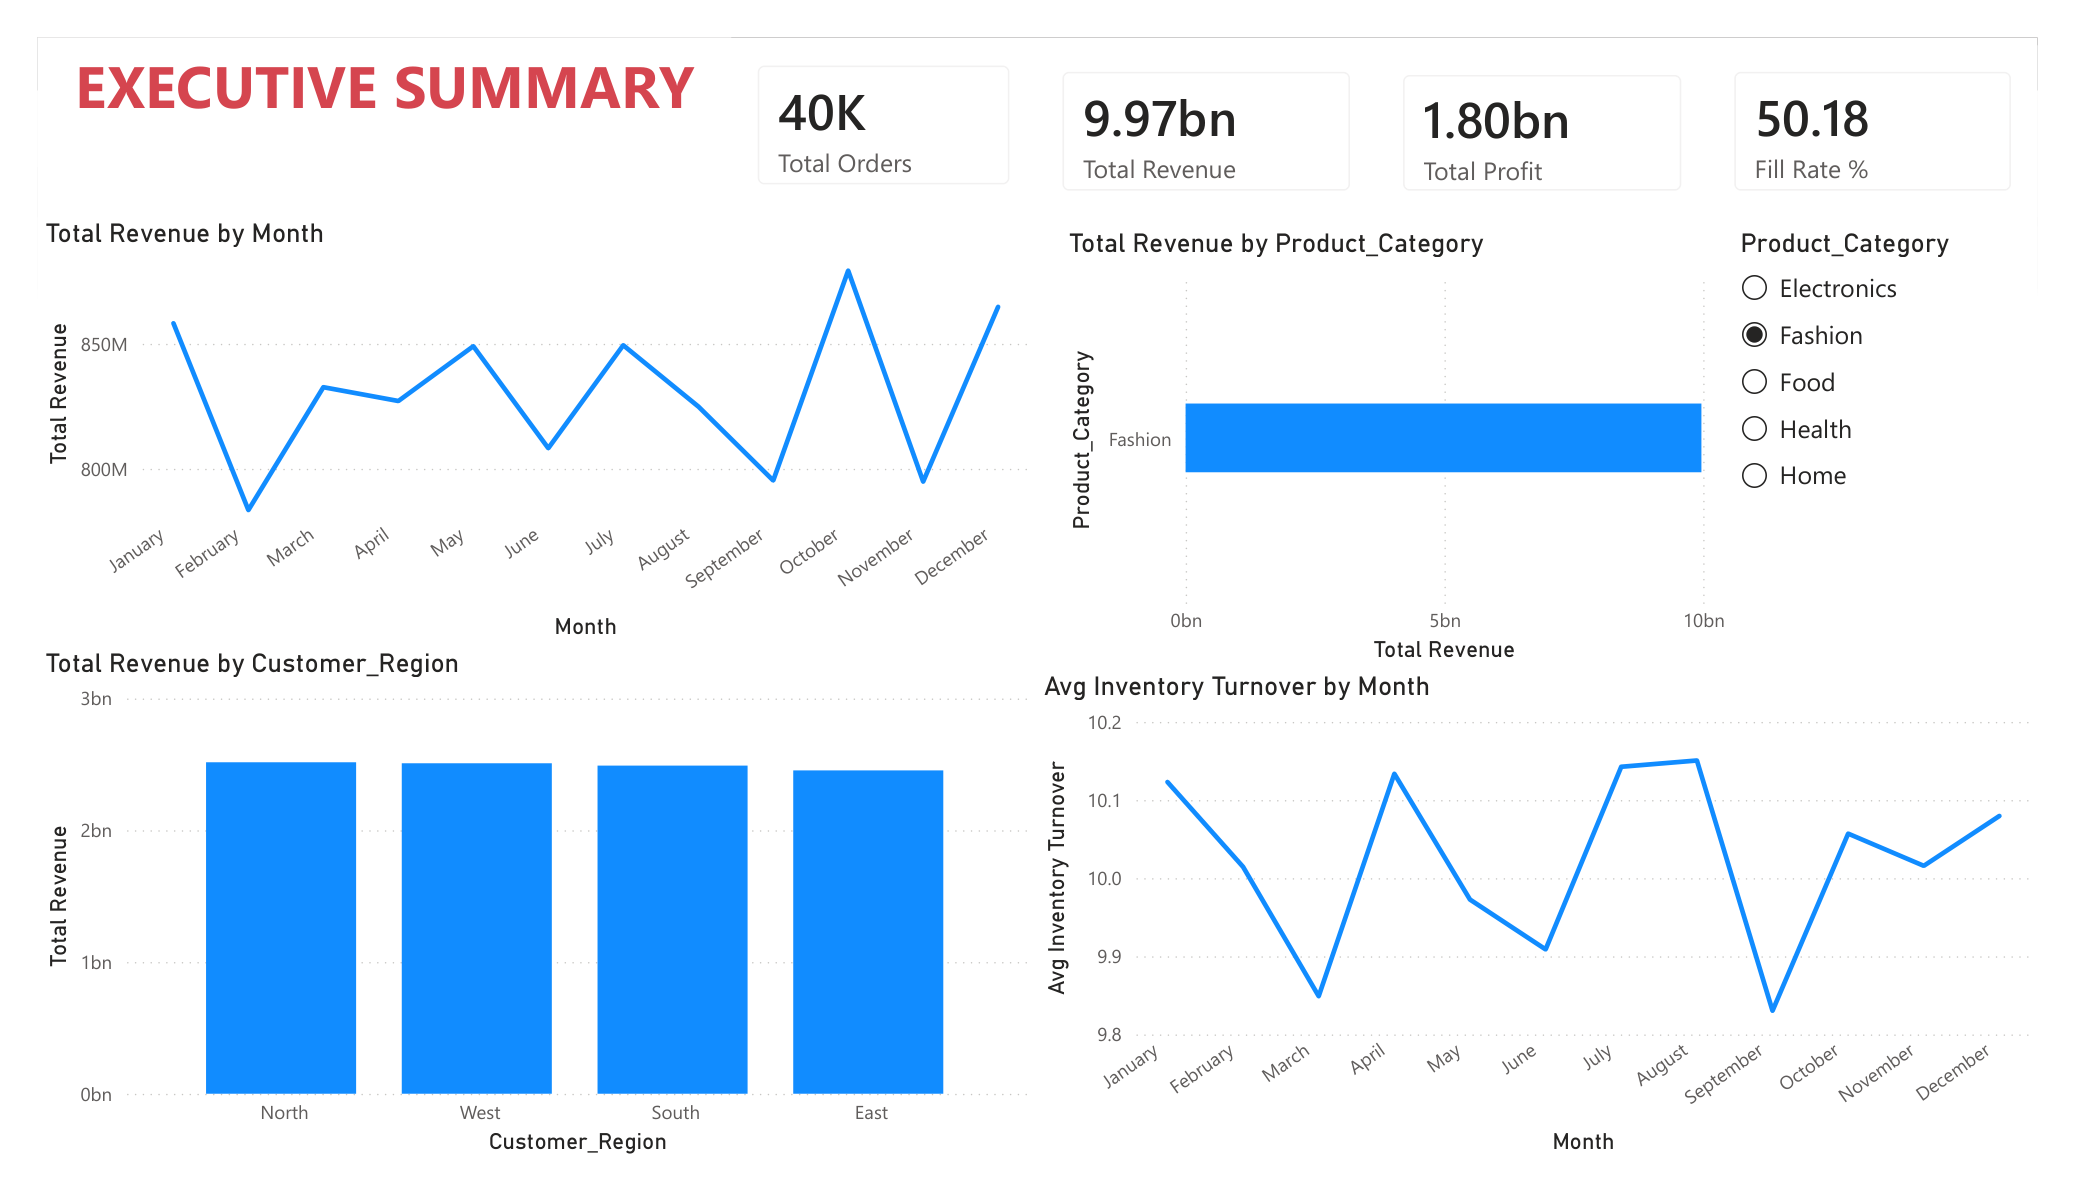

The page's visual inventory and layout, read from the dashboard file:
{"tool":"powerbi","page":{"name":"Executive Summary","canvas":[1280,720],"ordinal":0},"visuals":[{"type":"cardVisual","fields":{"Data":["DateTable.Total Orders"]},"box":[444.3,1.3,195.1,109.4],"z":0},{"type":"cardVisual","fields":{"Data":["DateTable.Total Revenue"]},"box":[639.5,5.3,217.6,109.4],"z":1000},{"type":"cardVisual","fields":{"Data":["DateTable.Total Profit"]},"box":[857,6.6,212.3,108.1],"z":2000},{"type":"cardVisual","fields":{"Data":["DateTable.Fill Rate %"]},"box":[1069.3,5.3,211,109.4],"z":3000},{"type":"lineChart","fields":{"Category":["DateTable.Date.Variation.Date Hierarchy.Month"],"Y":["DateTable.Total Revenue"]},"box":[0,114.7,639.5,275.6],"z":4000},{"type":"clusteredBarChart","fields":{"Y":["DateTable.Total Revenue"],"Category":["SupplyChain.Product_Category"]},"box":[655.3,121.3,429.8,283.5],"z":5000},{"type":"clusteredColumnChart","fields":{"Y":["DateTable.Total Revenue"],"Category":["SupplyChain.Customer_Region"]},"box":[0,390.3,639.5,329.6],"z":6000},{"type":"textbox","box":[0,0,444.3,83.1],"z":7000},{"type":"lineChart","fields":{"Category":["DateTable.Date.Variation.Date Hierarchy.Month"],"Y":["DateTable.Avg Inventory Turnover"]},"box":[639.5,404.8,640.8,315.1],"z":8000},{"type":"listSlicer","fields":{"Values":["SupplyChain.Product_Category"]},"box":[1085,121,195,283],"z":8001}]}

Visuals, with their boxes on the page's 1280x720 design canvas (x1, y1, x2, y2). These are canvas units, not pixel positions in the 2075x1200 screenshot, which may show the page scaled, cropped or inside an application window:
cardVisual - DateTable.Total Orders: {"x1": 444, "y1": 1, "x2": 639, "y2": 111}
cardVisual - DateTable.Total Revenue: {"x1": 640, "y1": 5, "x2": 857, "y2": 115}
cardVisual - DateTable.Total Profit: {"x1": 857, "y1": 7, "x2": 1069, "y2": 115}
cardVisual - DateTable.Fill Rate %: {"x1": 1069, "y1": 5, "x2": 1280, "y2": 115}
lineChart - DateTable.Date.Variation.Date Hierarchy.Month x DateTable.Total Revenue: {"x1": 0, "y1": 115, "x2": 640, "y2": 390}
clusteredBarChart - DateTable.Total Revenue x SupplyChain.Product_Category: {"x1": 655, "y1": 121, "x2": 1085, "y2": 405}
clusteredColumnChart - DateTable.Total Revenue x SupplyChain.Customer_Region: {"x1": 0, "y1": 390, "x2": 640, "y2": 720}
textbox: {"x1": 0, "y1": 0, "x2": 444, "y2": 83}
lineChart - DateTable.Date.Variation.Date Hierarchy.Month x DateTable.Avg Inventory Turnover: {"x1": 640, "y1": 405, "x2": 1280, "y2": 720}
listSlicer - SupplyChain.Product_Category: {"x1": 1085, "y1": 121, "x2": 1280, "y2": 404}
